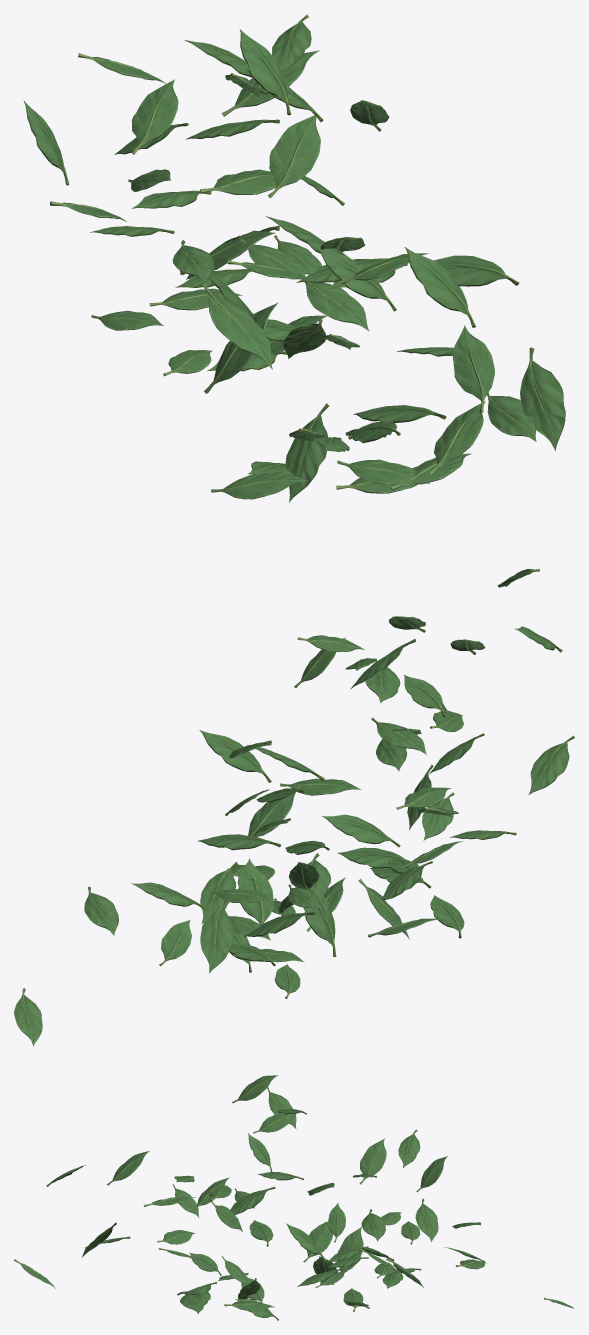
Rendered from holy_canopy8_complete.glb.
3 views of the same model, one above another, from view 1: azimuth 30°, elevation 25°; view 2: azimuth 150°, elevation 25°; view 3: azimuth 270°, elevation 25° (orthographic). The views are drawn at different scales.
Visible parts, largest first — view 1: holy_canopy8; view 2: holy_canopy8; view 3: holy_canopy8.
Part boxes in pixels (x1=…): holy_canopy8: x1=23, y1=14, x2=565, y2=587; holy_canopy8: x1=14, y1=616, x2=574, y2=1046; holy_canopy8: x1=14, y1=1075, x2=573, y2=1320.
Bounding box in the file's own units: 9.5 × 12.14 × 27.37.
1 material, 1 textured.
